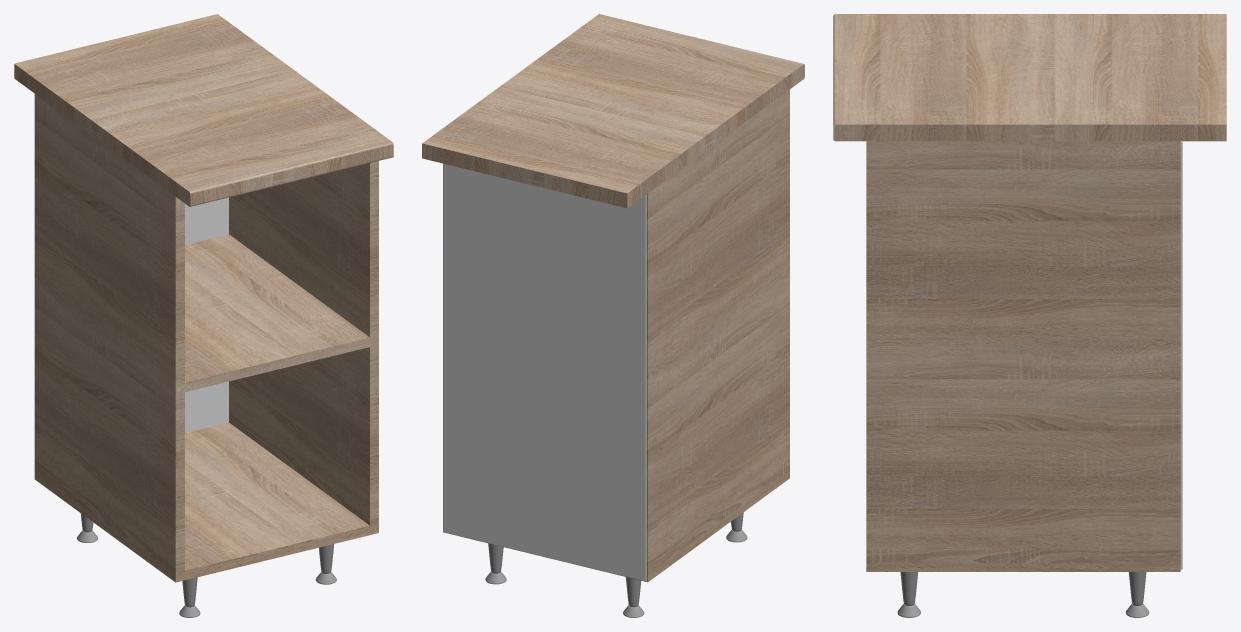
File: s_any_40.glb
3 renders of one model, left to right at view 1: azimuth 30°, elevation 25°; view 2: azimuth 150°, elevation 25°; view 3: azimuth 270°, elevation 25°, orthographic. The views are drawn at different scales.
Visible parts, largest first — view 1: s_any_40_korpusz, s_any_40_munkalap, s_any_40_lab_be, s_any_40_lab_je; view 2: s_any_40_korpusz, s_any_40_munkalap, s_any_40_lab_jh, s_any_40_lab_bh; view 3: s_any_40_korpusz, s_any_40_munkalap, s_any_40_lab_jh, s_any_40_lab_je.
Part boxes in pixels (bbox=[...]): s_any_40_korpusz: bbox=[34, 94, 378, 582]; s_any_40_munkalap: bbox=[14, 14, 393, 206]; s_any_40_lab_be: bbox=[179, 577, 200, 617]; s_any_40_lab_je: bbox=[315, 544, 336, 584]; s_any_40_korpusz: bbox=[443, 89, 789, 582]; s_any_40_munkalap: bbox=[422, 14, 804, 208]; s_any_40_lab_jh: bbox=[485, 543, 506, 584]; s_any_40_lab_bh: bbox=[623, 577, 644, 617]; s_any_40_korpusz: bbox=[866, 141, 1182, 571]; s_any_40_munkalap: bbox=[833, 14, 1226, 141]; s_any_40_lab_jh: bbox=[1125, 572, 1149, 617]; s_any_40_lab_je: bbox=[897, 572, 920, 617].
Bounding box in the file's own units: 0.4 × 0.853 × 0.6.
4 materials, 2 textured.
